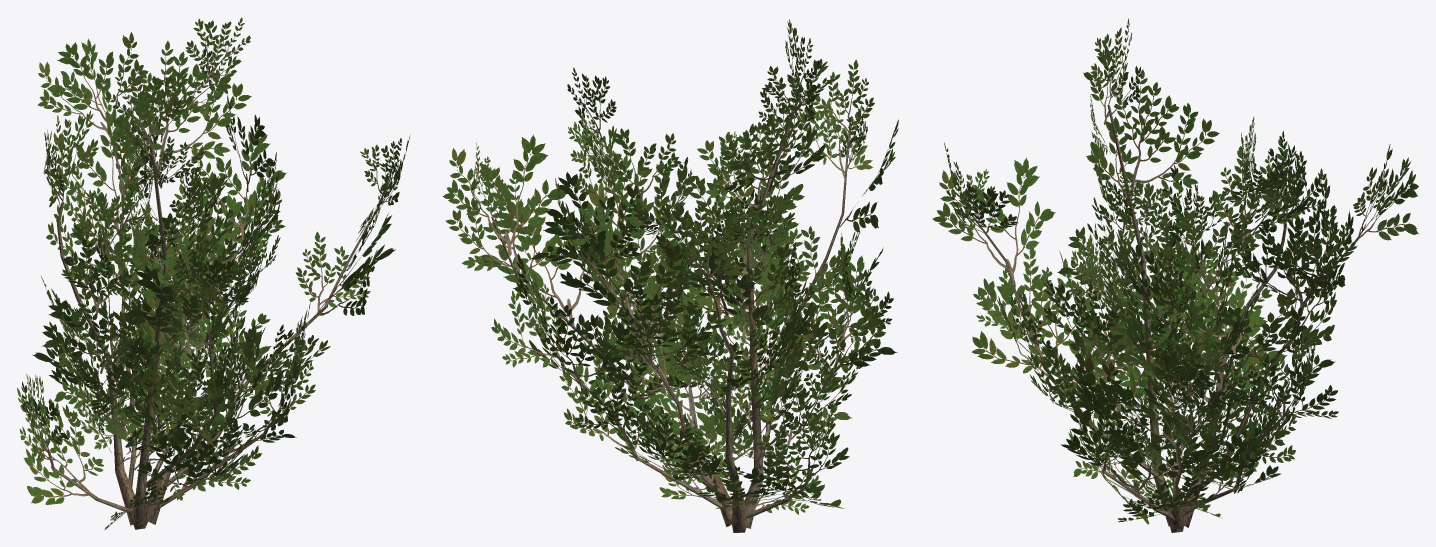
File: bush1_l1.glb
3 renders of one model, left to right at view 1: azimuth 30°, elevation 25°; view 2: azimuth 150°, elevation 25°; view 3: azimuth 270°, elevation 25°, orthographic.
Parts seen in each view (by area): view 1: Bush_big_001_LOD1_Brunch_material_0, Bush_big_001_LOD1_Bark_material_0; view 2: Bush_big_001_LOD1_Brunch_material_0, Bush_big_001_LOD1_Bark_material_0; view 3: Bush_big_001_LOD1_Brunch_material_0, Bush_big_001_LOD1_Bark_material_0.
Part boxes in pixels (<box>): Bush_big_001_LOD1_Brunch_material_0: <box>17,17,410,529</box>; Bush_big_001_LOD1_Bark_material_0: <box>47,134,377,529</box>; Bush_big_001_LOD1_Brunch_material_0: <box>442,19,898,514</box>; Bush_big_001_LOD1_Bark_material_0: <box>491,101,849,532</box>; Bush_big_001_LOD1_Brunch_material_0: <box>932,18,1418,524</box>; Bush_big_001_LOD1_Bark_material_0: <box>968,105,1358,532</box>.
Bounding box in the file's own units: 1.47 × 1.7 × 1.55.
2 materials, 2 textured.
